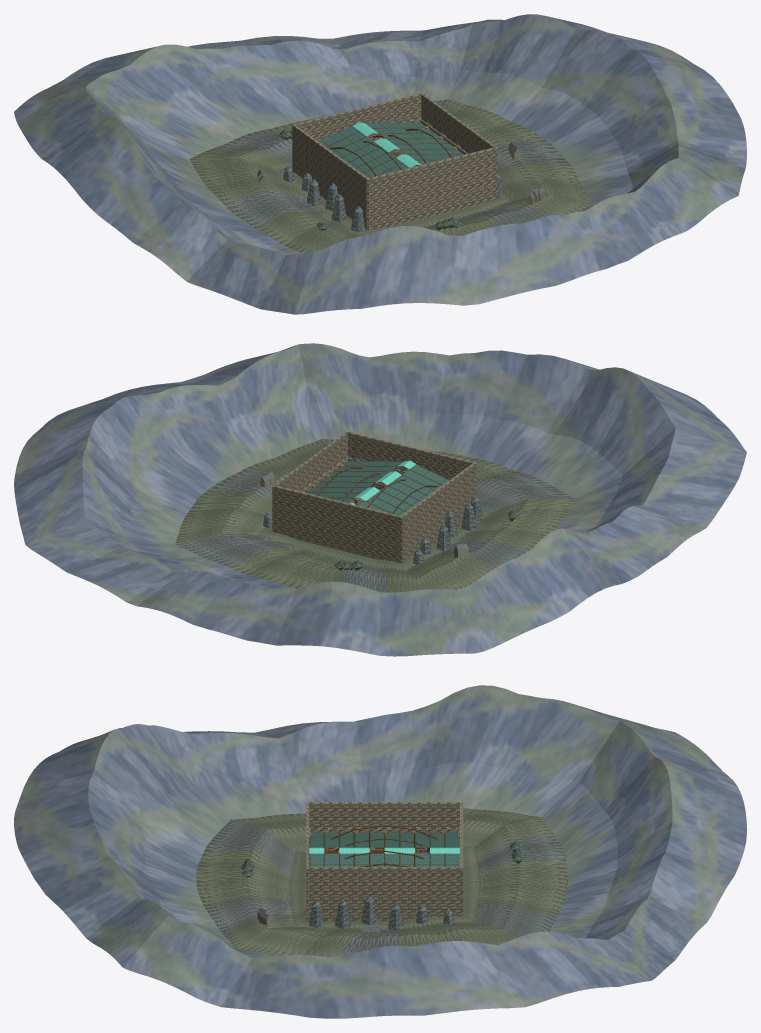
Rendered from DrumHouse.fbx.
3 renders of one model, top to bottom at view 1: azimuth 30°, elevation 25°; view 2: azimuth 150°, elevation 25°; view 3: azimuth 270°, elevation 25°, orthographic. The views are drawn at different scales.
Visible parts, largest first — view 1: Surroundings, C_Solids, Rim, Horizon; view 2: Surroundings, C_Solids, Rim, Horizon; view 3: Surroundings, C_Solids, Rim, Horizon.
Boxes of the visible parts, box(x1,y1,x2,y2) form: Surroundings: box(14, 14, 746, 314); C_Solids: box(292, 93, 497, 230); Rim: box(319, 119, 467, 177); Horizon: box(283, 166, 503, 231); Surroundings: box(14, 343, 746, 656); C_Solids: box(272, 431, 476, 563); Rim: box(301, 457, 449, 515); Horizon: box(263, 496, 482, 564); Surroundings: box(14, 685, 746, 1018); C_Solids: box(306, 802, 463, 921); Rim: box(309, 825, 459, 866); Horizon: box(309, 896, 454, 929).
Size of the model in its own units: 19087 by 2935 by 19423.
